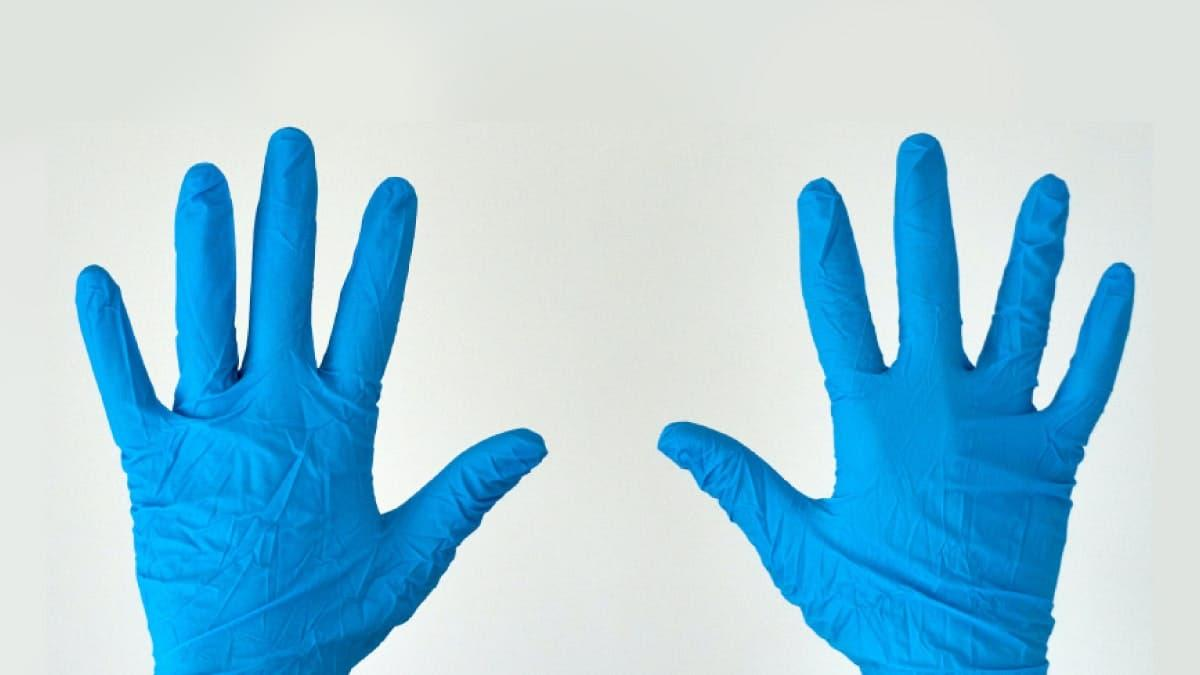gloves: (645, 113, 1142, 675), (78, 123, 555, 675)
